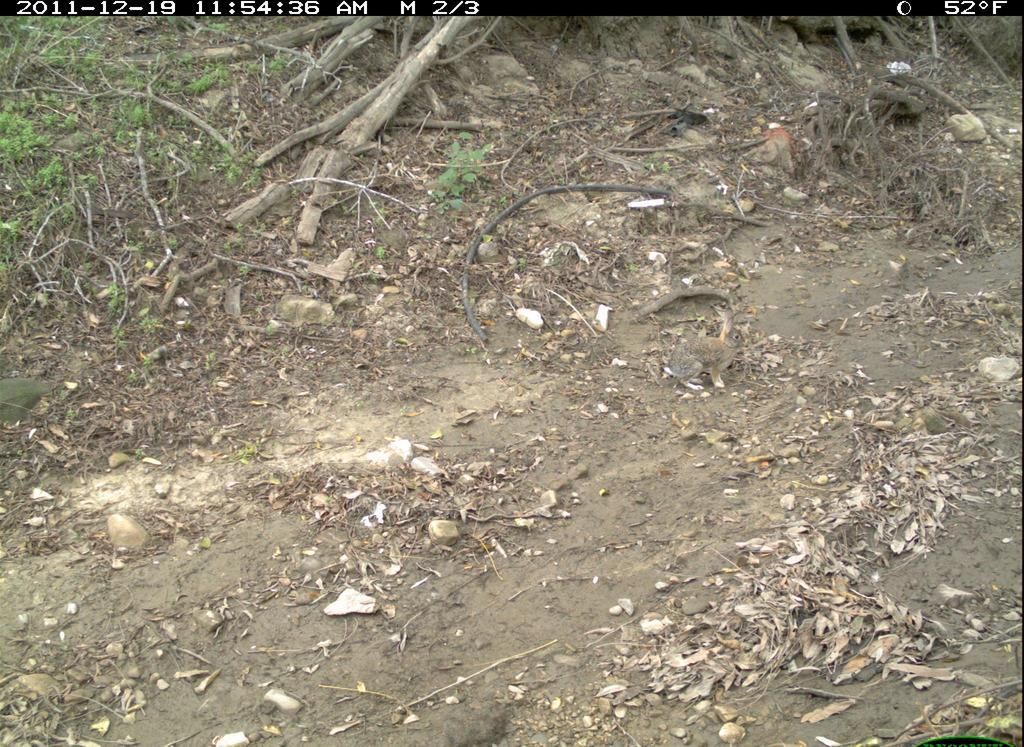rabbit: (661, 301, 754, 405)
